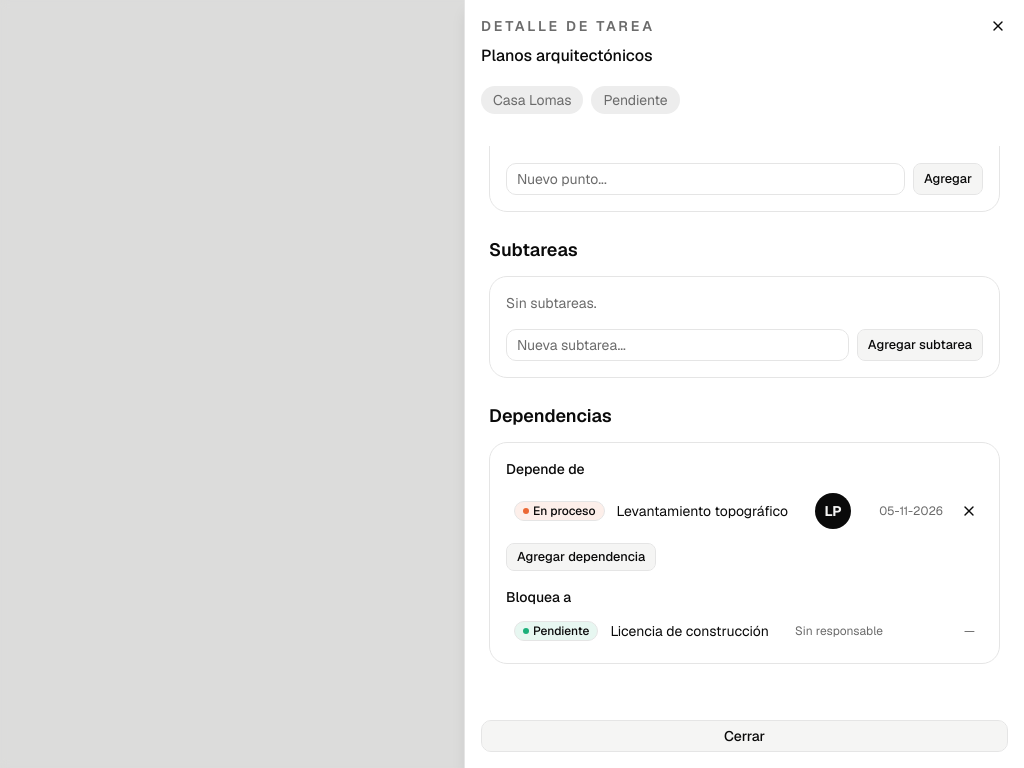
TaskDrawer Dependencias › searches only the task's project, without itself or existing dependencies
(page scrolled)
Expected: the text "Levantamiento topográfico" is shown, [616,501,803,521]
Click the button "Agregar dependencia". click: (581, 557)
box: [506,543,656,571]
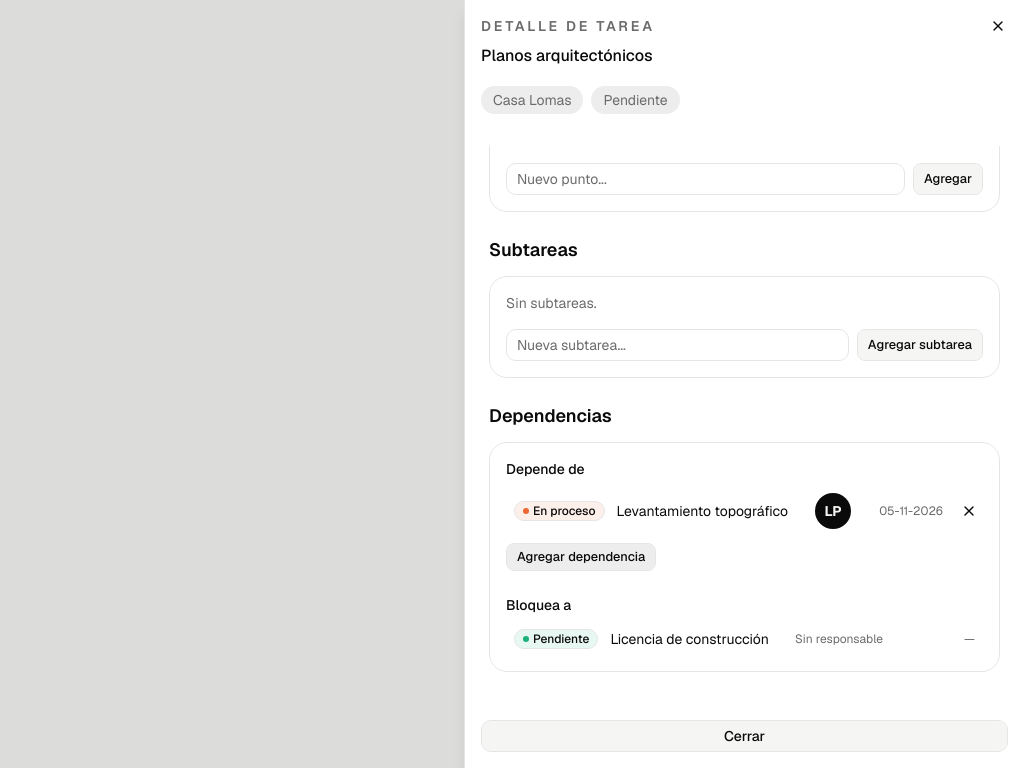
Now the text "Estudio de mecánica de suelos" is shown, box [523,626,720,646]
Now the options read "Estudio de mecánica de suelos", in this order, box [515,620,817,652]
